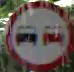No overtake: (3, 1, 71, 71)
